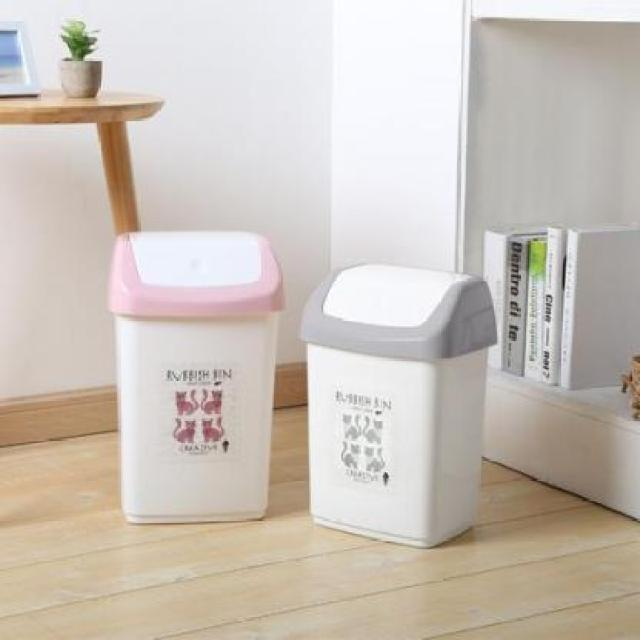dustbin: (297, 258, 501, 554), (105, 224, 288, 528)
